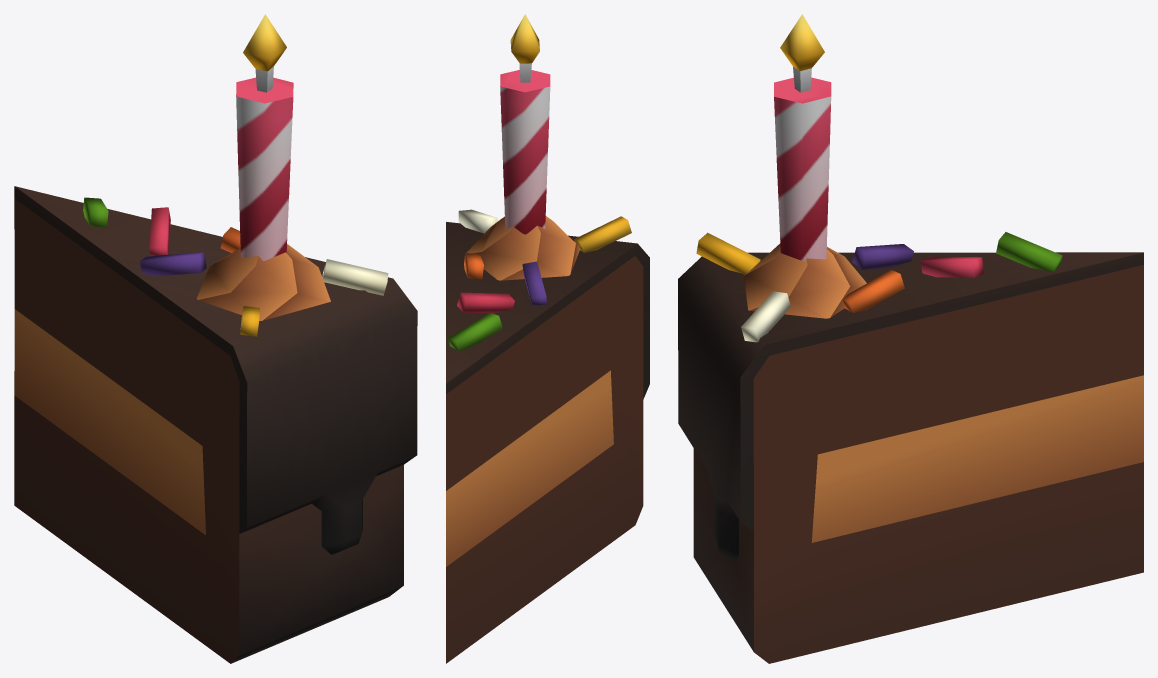
The model's file is m_BirthdayCake04_Slice03.fbx.
3 renders of one model, left to right at view 1: azimuth 30°, elevation 25°; view 2: azimuth 150°, elevation 25°; view 3: azimuth 270°, elevation 25°, orthographic. The views are drawn at different scales.
Visible parts, largest first — view 1: m_BirthdayCake04_Slice03; view 2: m_BirthdayCake04_Slice03; view 3: m_BirthdayCake04_Slice03.
Part boxes in pixels (<box>): m_BirthdayCake04_Slice03: <box>14,14,417,663</box>; m_BirthdayCake04_Slice03: <box>446,14,649,663</box>; m_BirthdayCake04_Slice03: <box>678,14,1143,663</box>.
Bounding box in the file's own units: 7.24 × 20.5 × 14.48.
